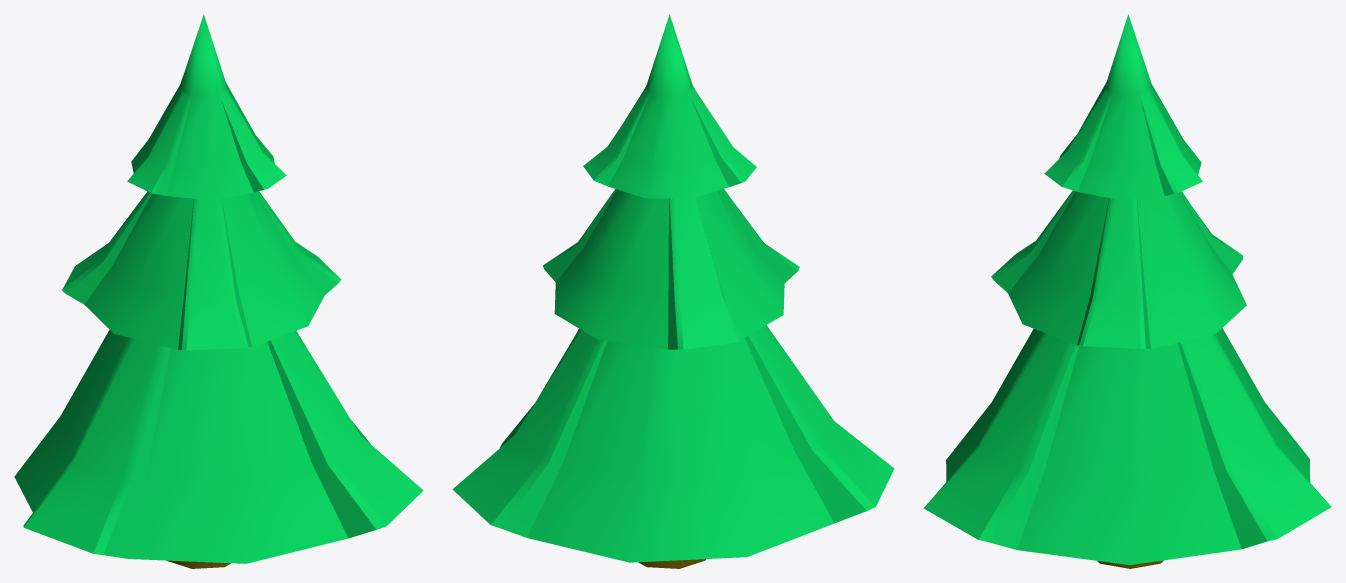
The model's file is Tree.fbx.
3 renders of one model, left to right at view 1: azimuth 30°, elevation 25°; view 2: azimuth 150°, elevation 25°; view 3: azimuth 270°, elevation 25°, orthographic.
Visible parts, largest first — view 1: Cone_Tree; view 2: Cone_Tree; view 3: Cone_Tree.
Part boxes in pixels (x1,y1,x2,y2): Cone_Tree: (14,14,423,568); Cone_Tree: (452,14,894,568); Cone_Tree: (923,14,1331,568).
Bounding box in the file's own units: 6.46 × 9.2 × 6.35.
